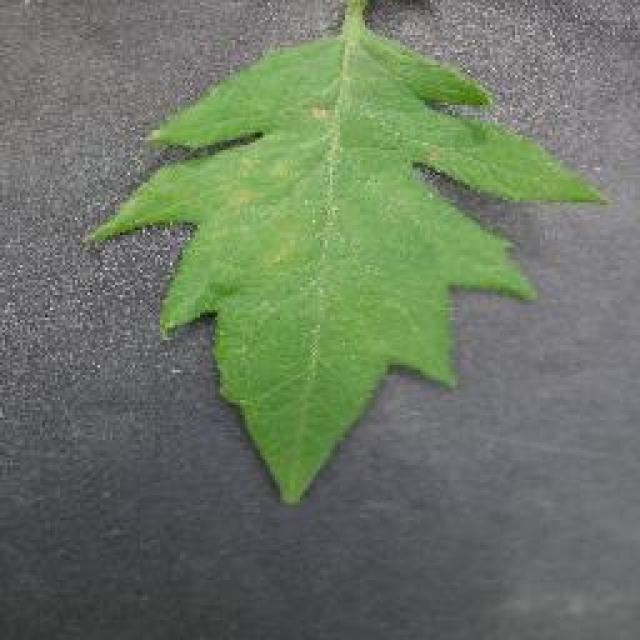Tomato Late Blight: (190, 72, 460, 410)
